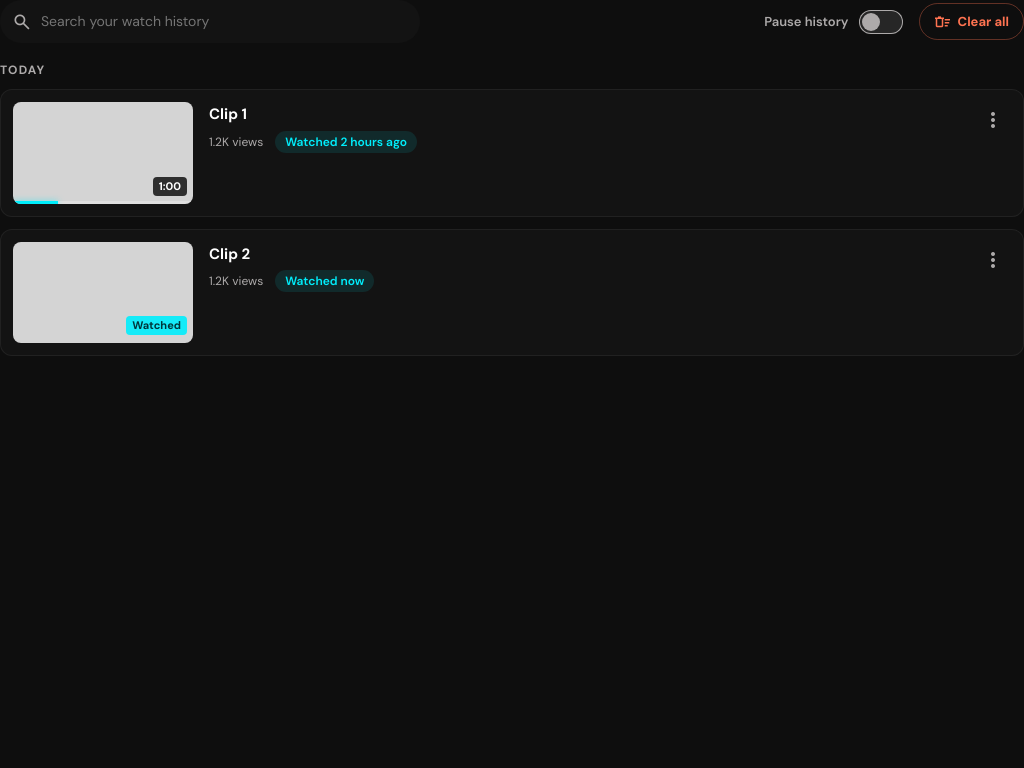
Test: WatchHistorySection › renders in English
The image size is (1024, 768).
Expected: the heading "Today" is shown, [0,62,45,78]
Expected: the switch named "Pause history" is shown, [858,10,902,34]
Click the button "Clear all" at coordinates (971, 22), box [918,3,1023,40]
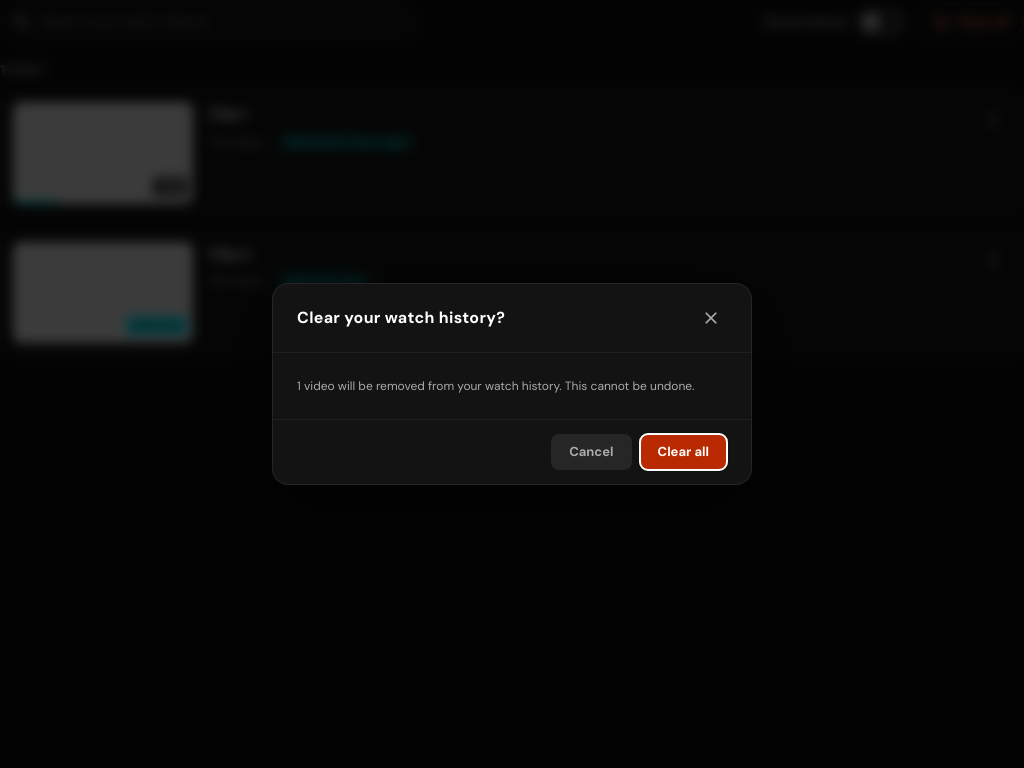
Expected: the dialog shows "1 video will be removed", [297,378,694,394]
